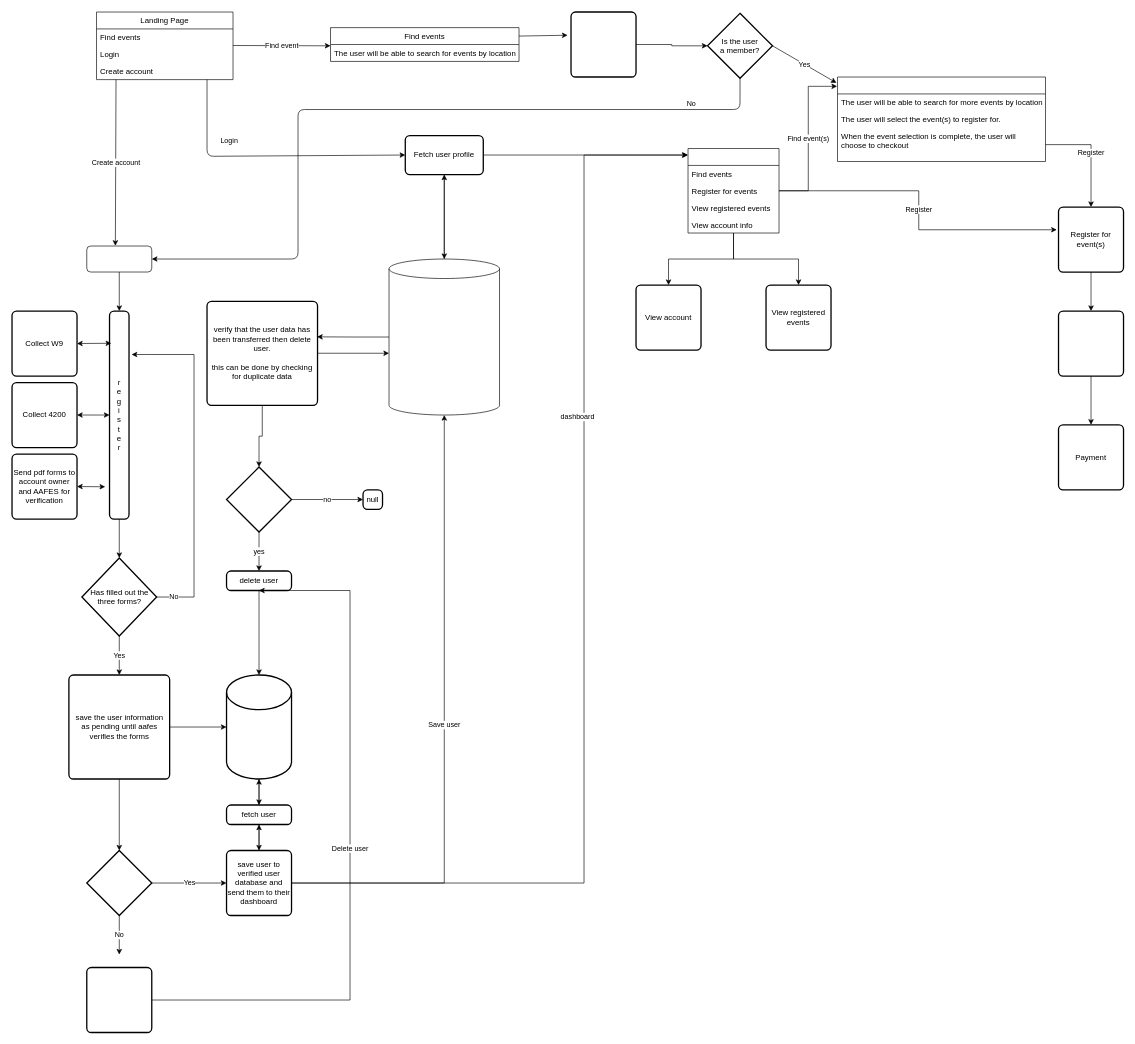
The diagram is 1135 pixels wide and 1044 high, and some of its shapes have lost their labels. The shapes that lost their labels are listed below. From the top down, each one's box as (x1, y1, x2, y2) in pixels, then its label:
(570, 11, 636, 77): Check if user is already a member
(837, 76, 1046, 162): Display events page
(687, 148, 779, 233): User Dashboard
(86, 245, 152, 272): Start registration
(388, 258, 500, 415): verified user database
(1058, 310, 1124, 376): Checkout
(226, 466, 292, 532): is duplicate?
(226, 674, 292, 779): pending verification database
(86, 850, 152, 916): is the user verified?
(86, 967, 152, 1033): Notify user then delete them from pending database
